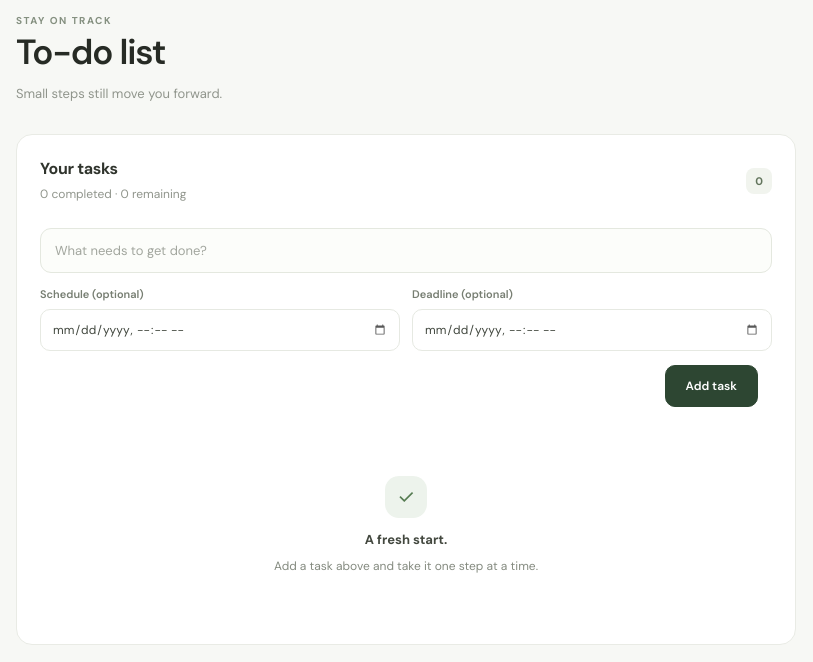
Scenario: TasksPage › adds a task using the form
expect the text "A fresh start." is shown: met, box [365,531,447,548]
Type "Read a book" into the field named "New task" at [406, 250], box [40,228,772,273]
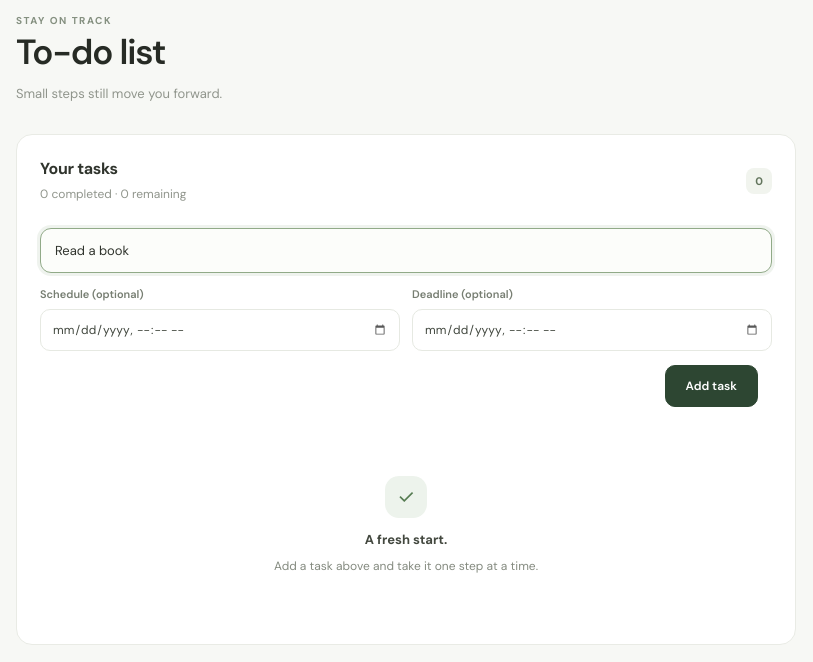
Click the button "Add task" at [711, 386], box [665,365,758,407]
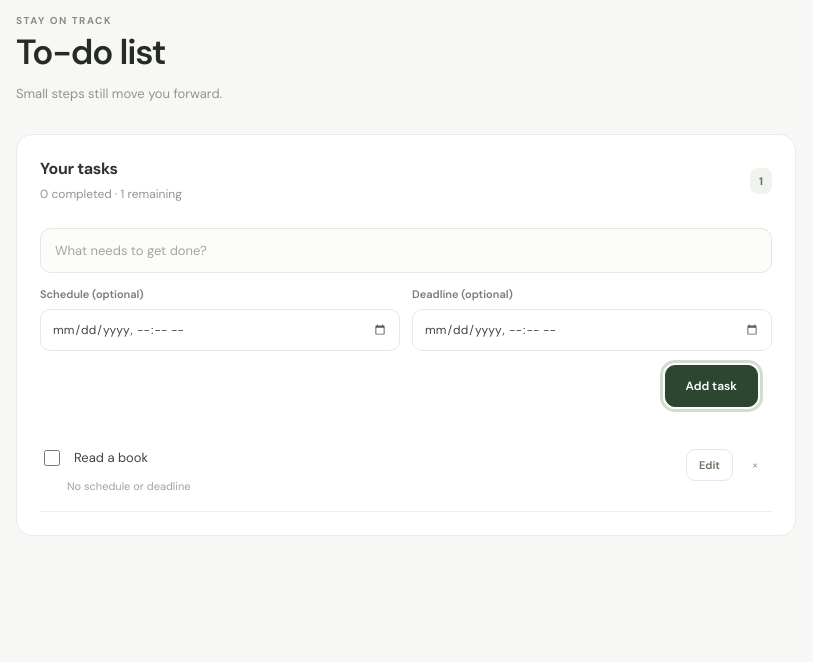
expect the text "Read a book" is shown: met, box [74,448,148,469]
expect the field named "New task" is empty: met, box [40,228,772,273]
